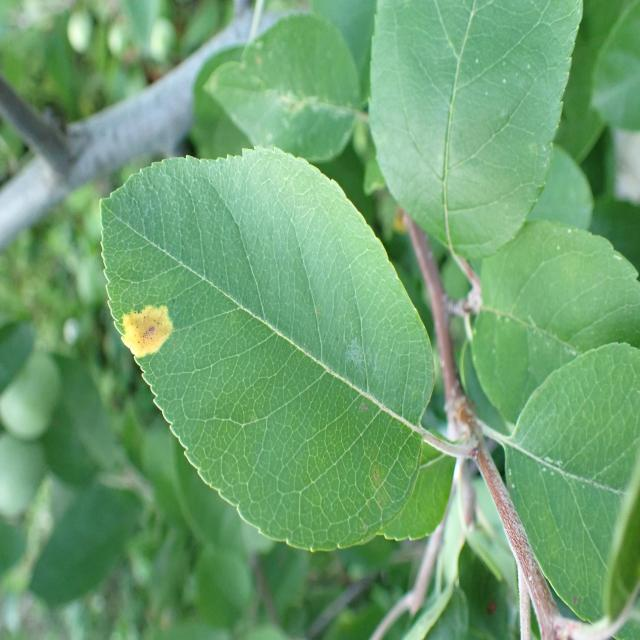Rust: (113, 286, 184, 368)
